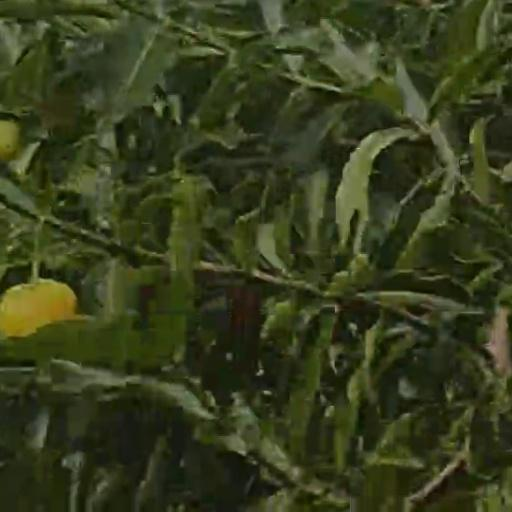acerola: (2, 282, 70, 330)
